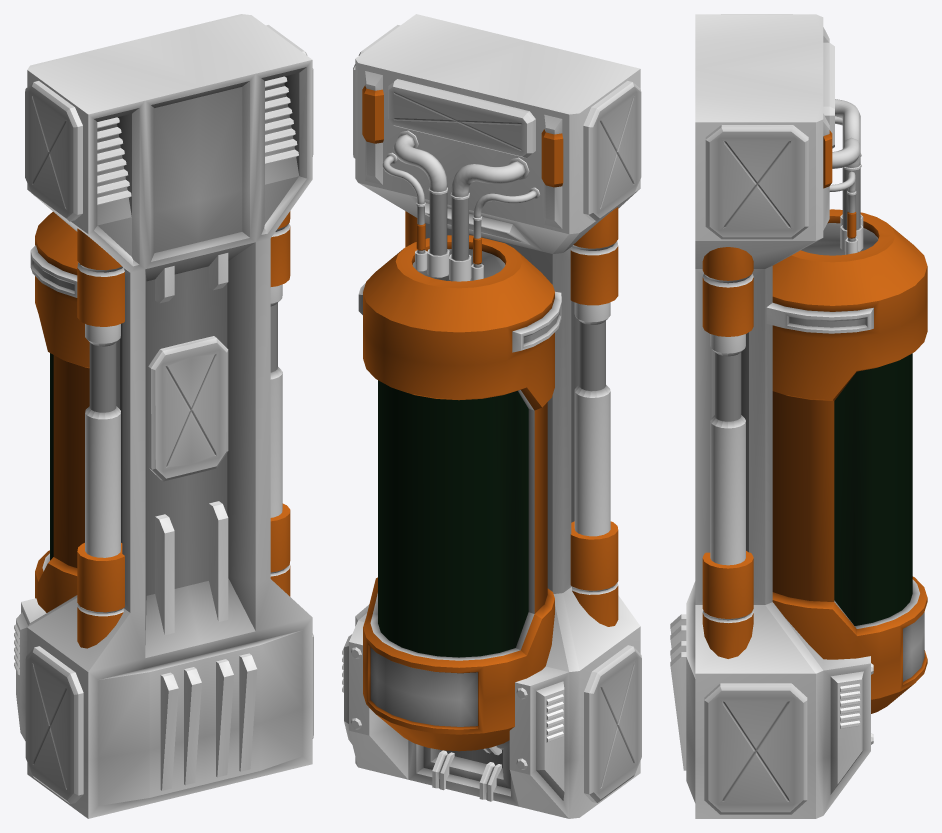
The model's file is deco_tank.FBX.
3 renders of one model, left to right at view 1: azimuth 30°, elevation 25°; view 2: azimuth 150°, elevation 25°; view 3: azimuth 270°, elevation 25°, orthographic.
Parts seen in each view (by area): view 1: deco_tank; view 2: deco_tank; view 3: deco_tank.
Part boxes in pixels (<box>): deco_tank: <box>14,14,313,818</box>; deco_tank: <box>342,14,641,818</box>; deco_tank: <box>670,14,927,818</box>.
Bounding box in the file's own units: 1.07 × 3 × 1.
